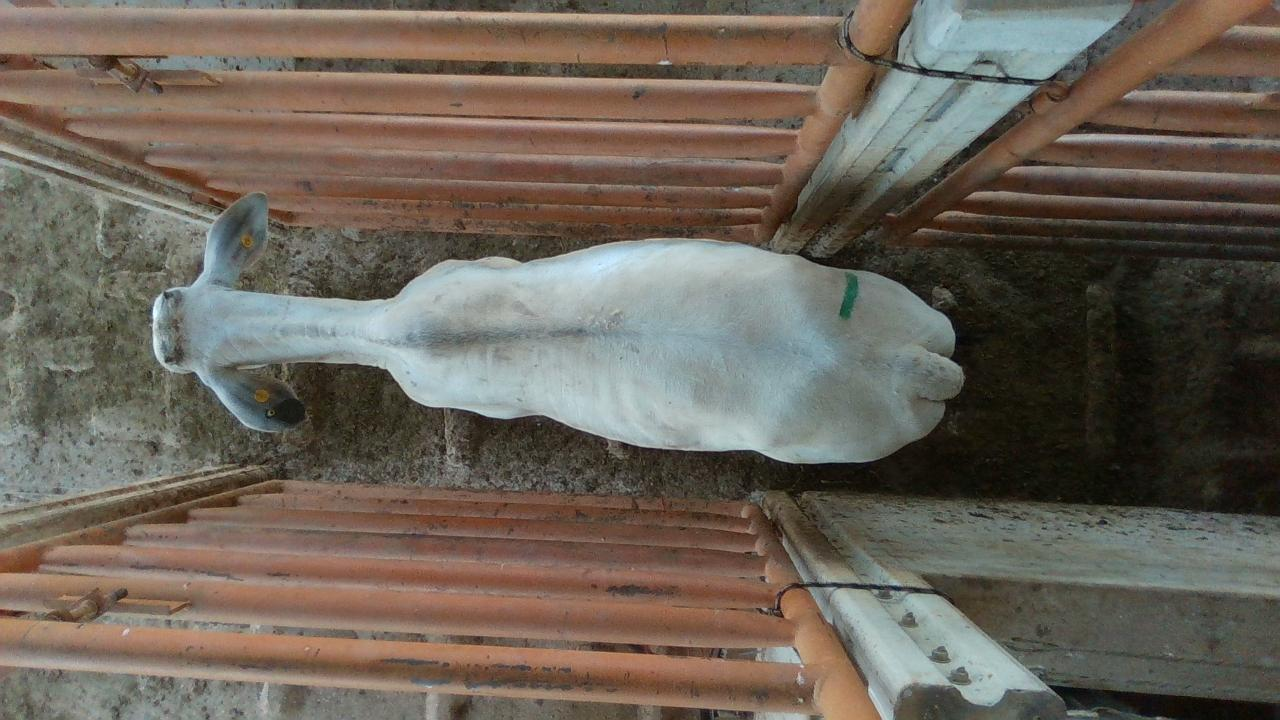cattle: (150, 189, 966, 466)
